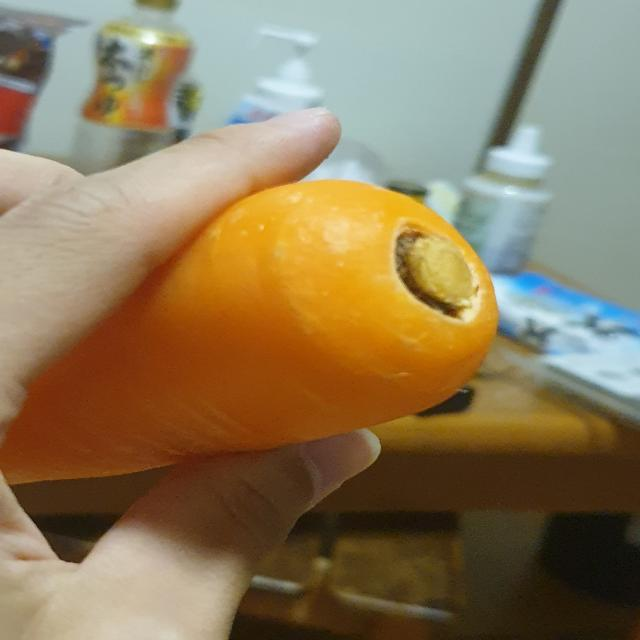Carrot: (0, 172, 515, 494)
